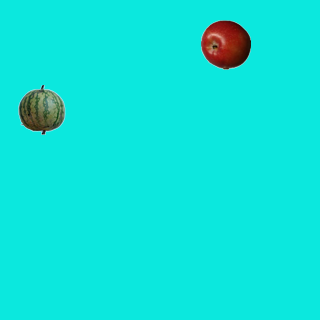Apple Braeburn: (200, 19, 250, 69)
Watermelon: (16, 84, 66, 134)
